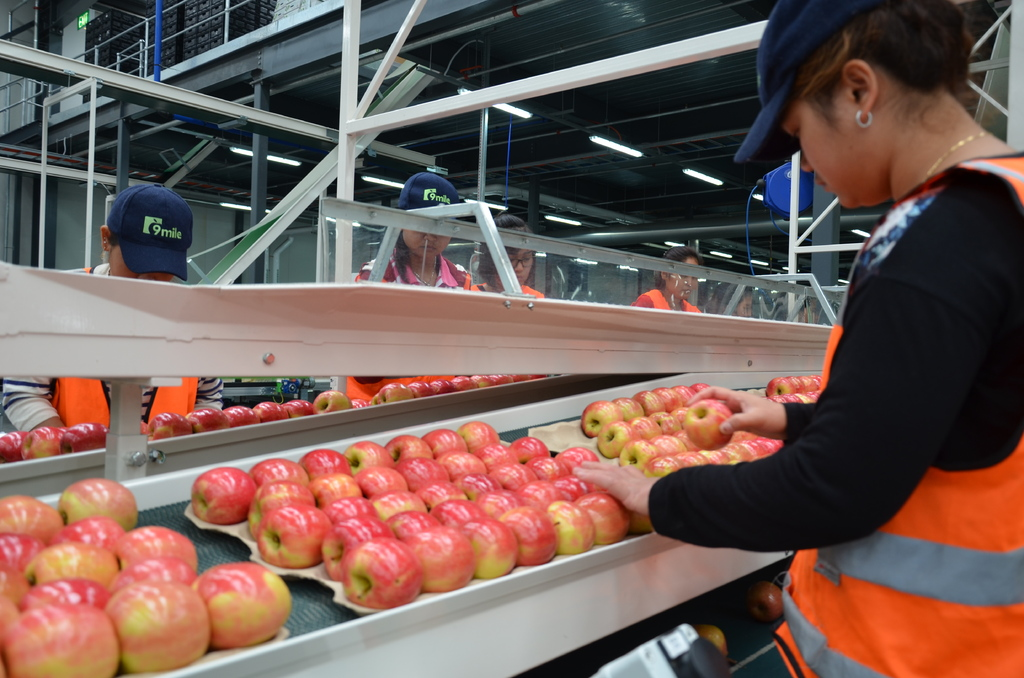Apple: (190, 417, 650, 606), (0, 475, 206, 677), (146, 373, 542, 438), (581, 375, 782, 483), (184, 562, 282, 662), (0, 421, 111, 460), (761, 373, 822, 396), (752, 584, 780, 623), (700, 626, 727, 653)
